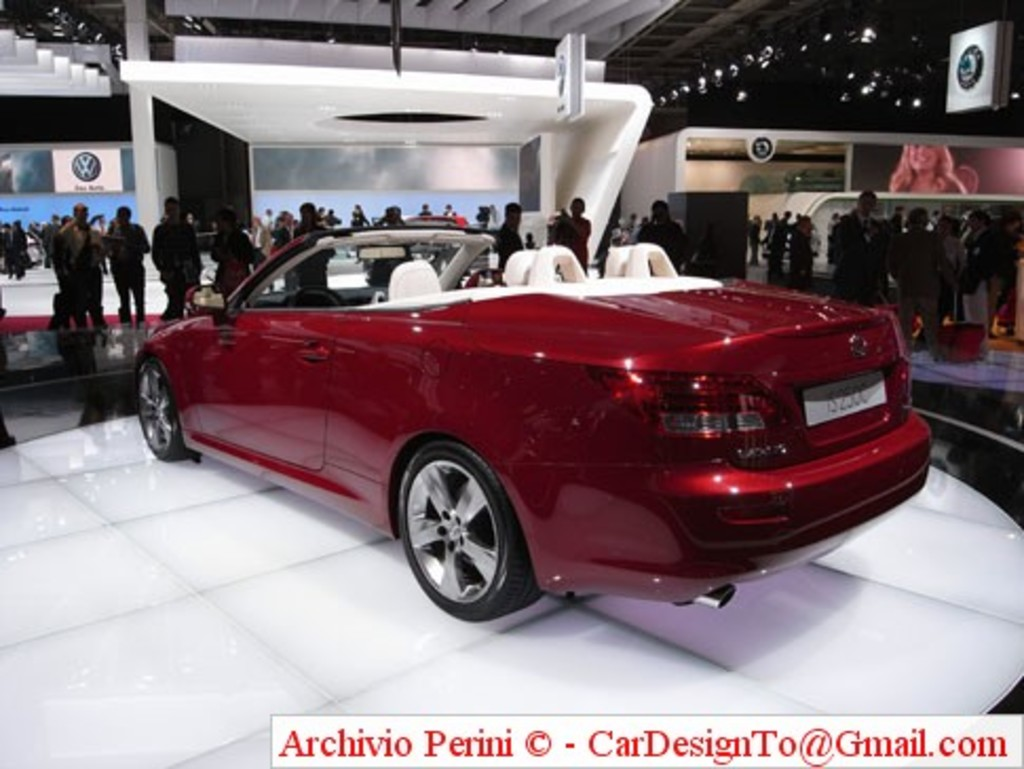mobil: (119, 230, 944, 620)
